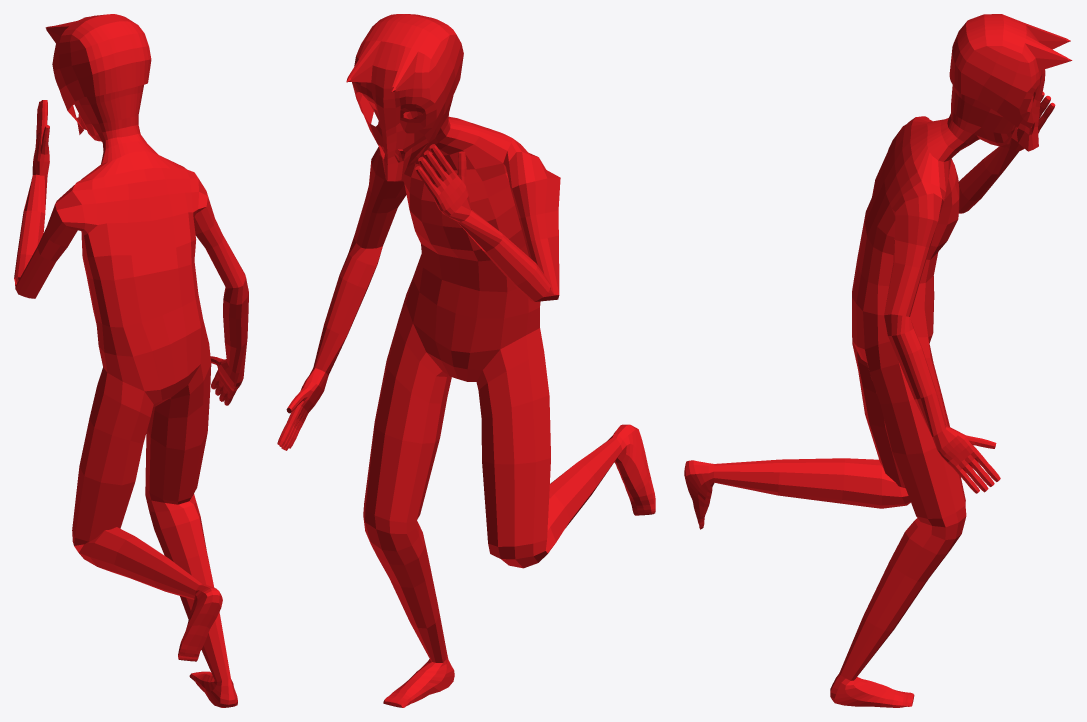
Rendered from correrE_000106.obj.
3 renders of one model, left to right at view 1: azimuth 30°, elevation 25°; view 2: azimuth 150°, elevation 25°; view 3: azimuth 270°, elevation 25°, orthographic. The views are drawn at different scales.
Parts seen in each view (by area): view 1: Plane.002_Plane.001; view 2: Plane.002_Plane.001; view 3: Plane.002_Plane.001.
Part boxes in pixels (x1=…): Plane.002_Plane.001: x1=14, y1=14, x2=248, y2=707; Plane.002_Plane.001: x1=277, y1=14, x2=655, y2=707; Plane.002_Plane.001: x1=684, y1=14, x2=1072, y2=707.
Size of the model in its own units: 2.39 by 6.51 by 3.48.
